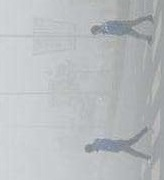person: (85, 126, 153, 162), (89, 14, 156, 46)
